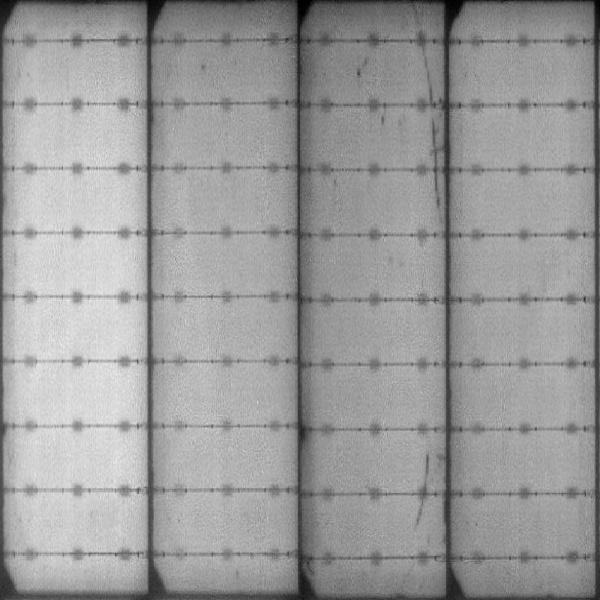scratch: (425, 112, 445, 219), (421, 42, 442, 105), (418, 456, 436, 524)
